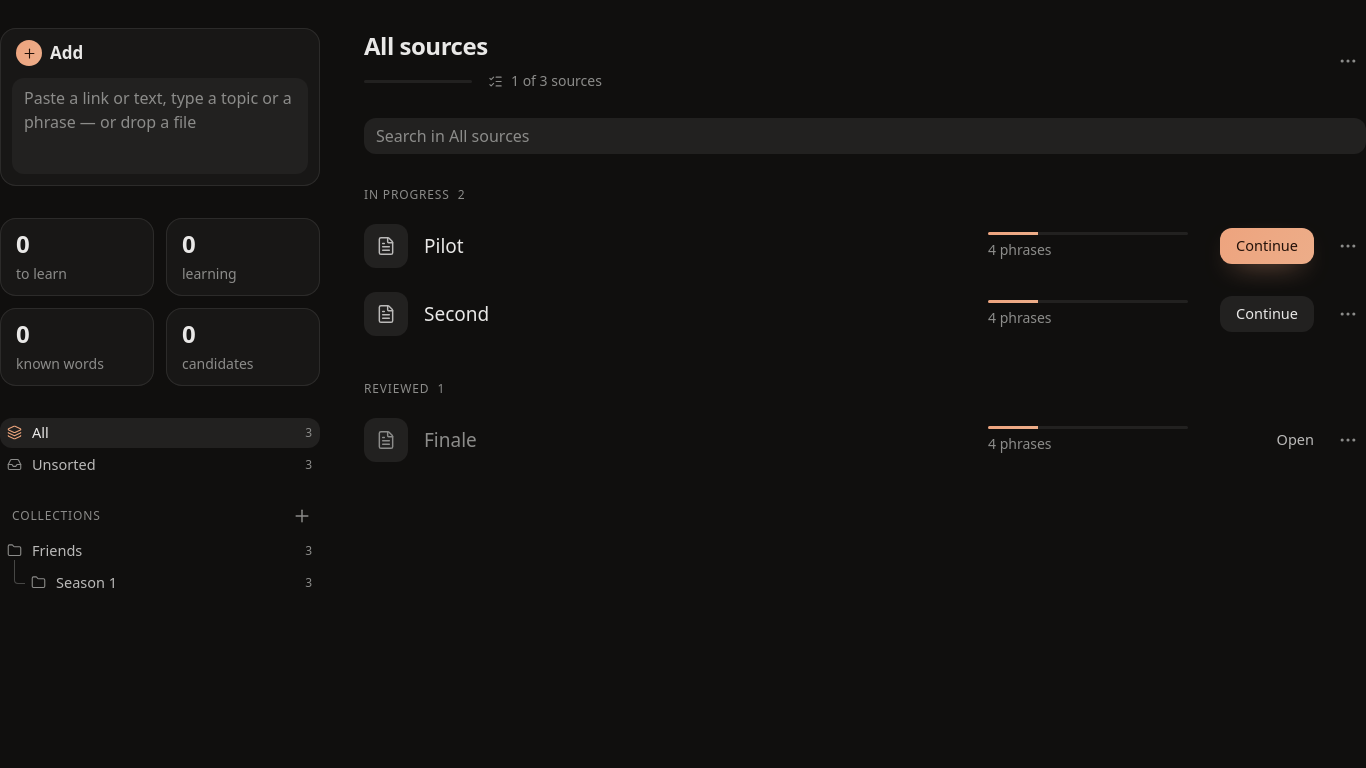
Test case: SourcesScreen › moves the selected sources and offers Undo
Click the option "Second 4 phrases Continue".
click(386, 314)  # box [352,280,1365,348]
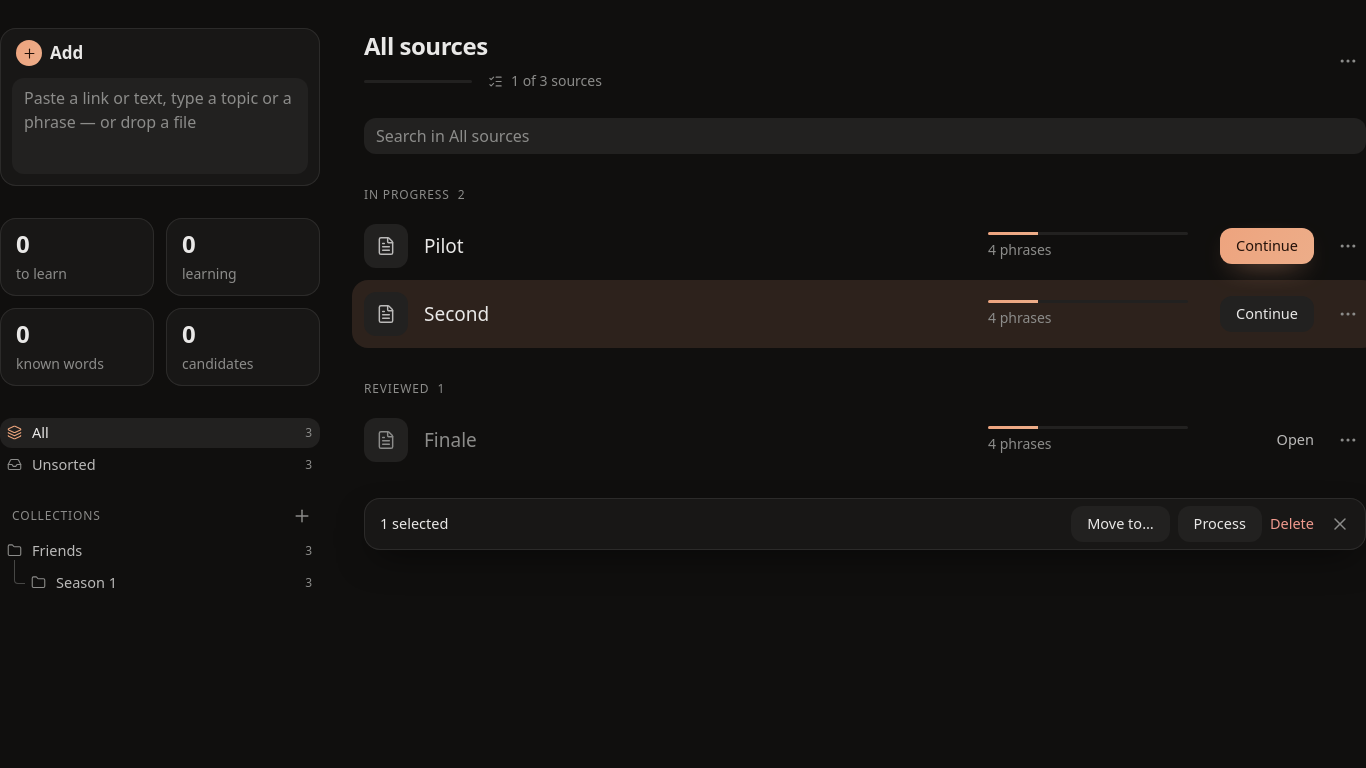
Click the button "Move to…".
click(1120, 524)  # box [1071,506,1170,542]
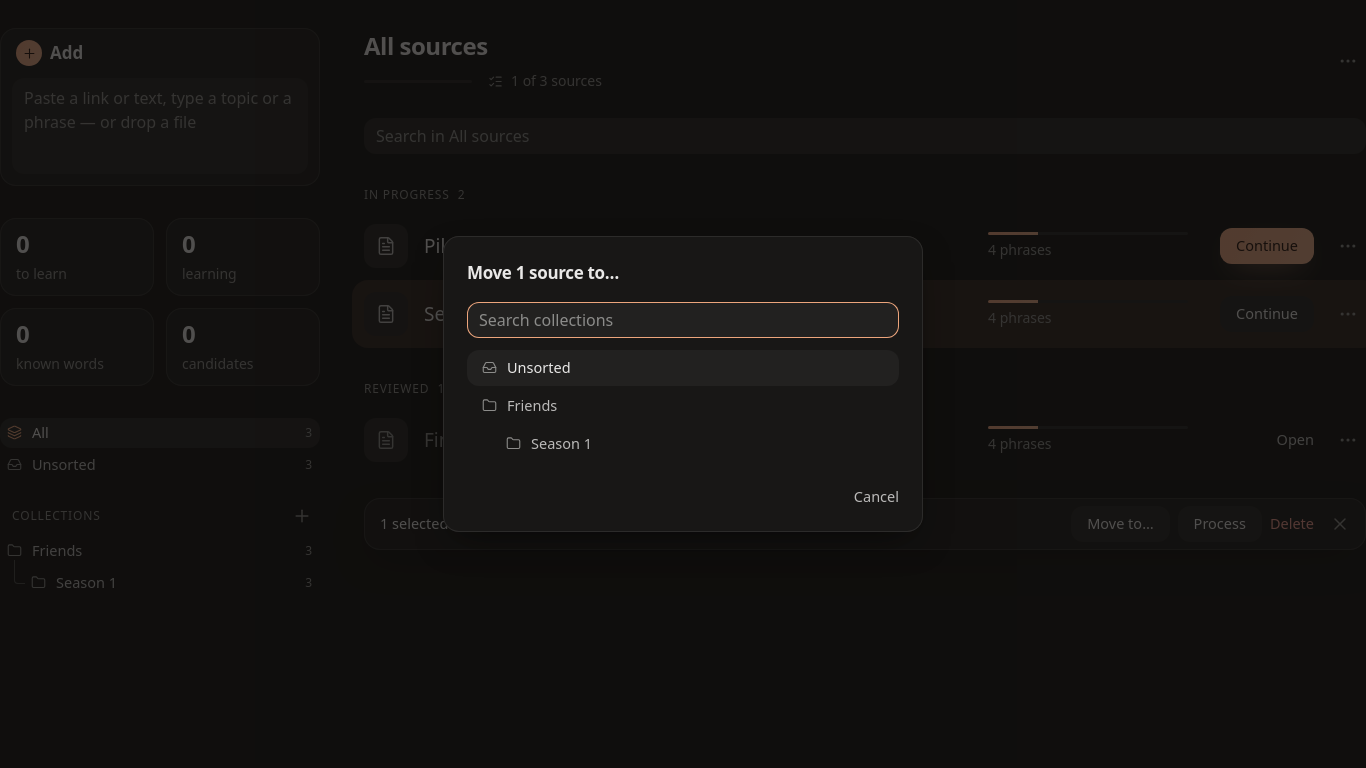
Click the option "Season 1".
click(562, 443)  # box [467,426,899,462]
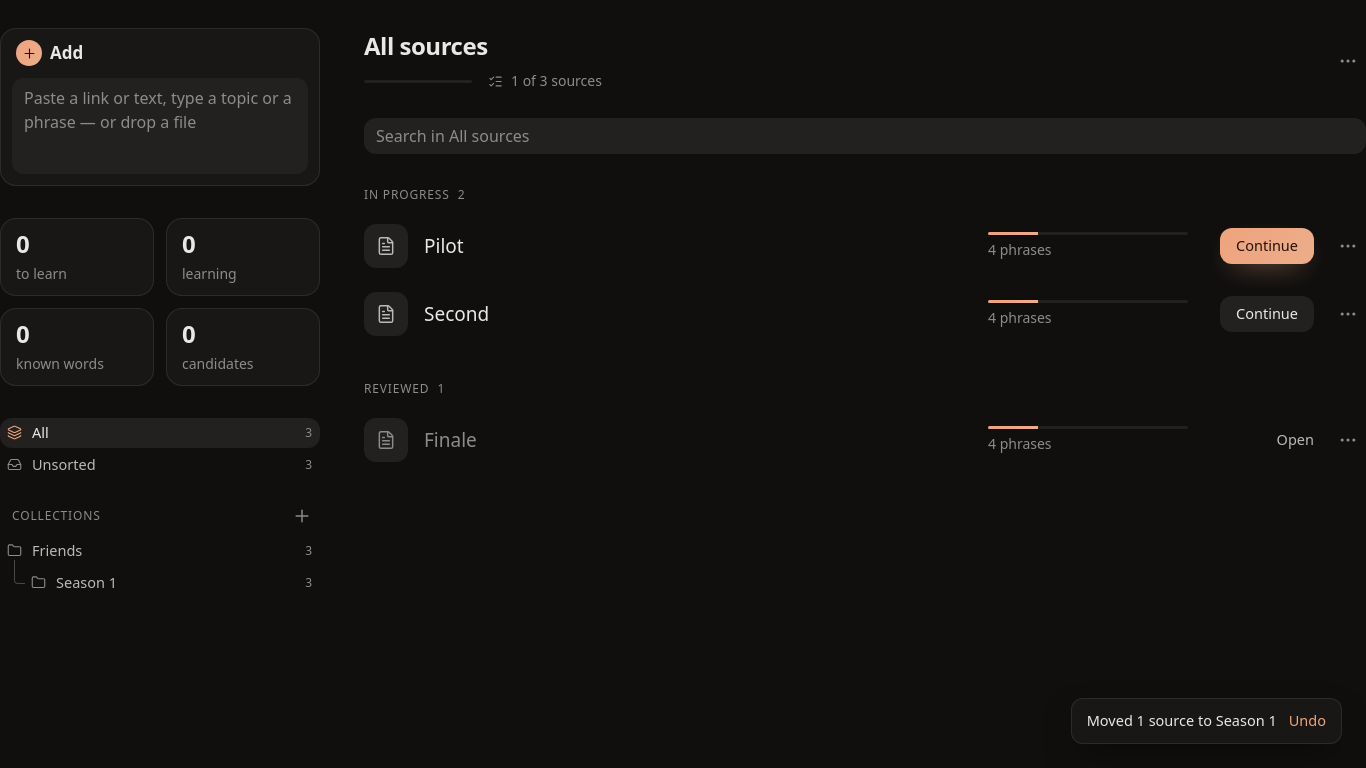
Check: the message "Moved 1 source to Season 1 Undo" is shown, box [1071,698,1342,744]
Check: the button "Undo" is shown, box [1289,710,1326,732]
